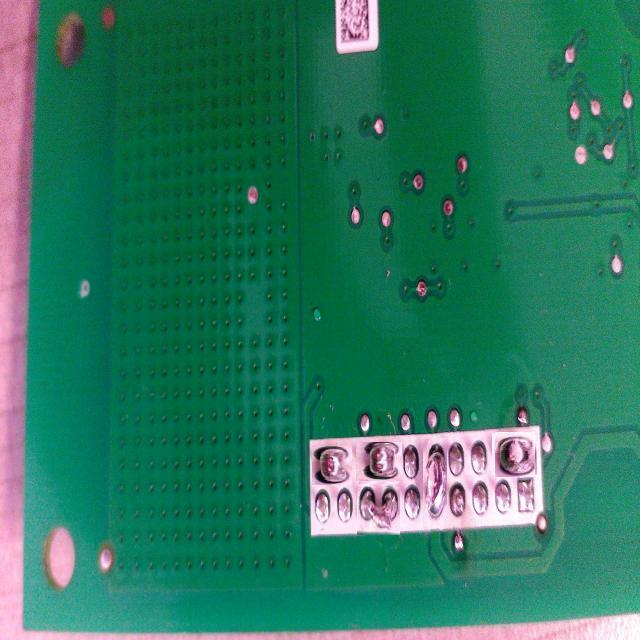Short_circuit: (423, 438, 447, 526), (357, 487, 400, 535), (493, 433, 536, 476), (358, 440, 400, 483), (312, 446, 352, 486)
